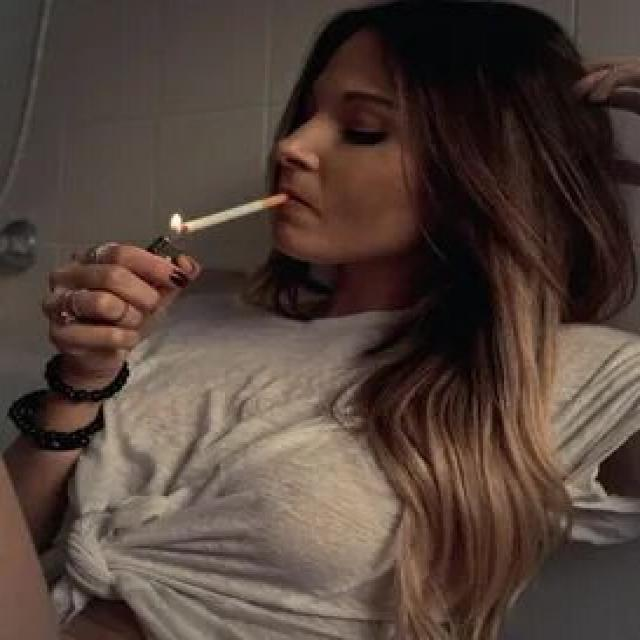cigarette: (171, 182, 298, 232)
